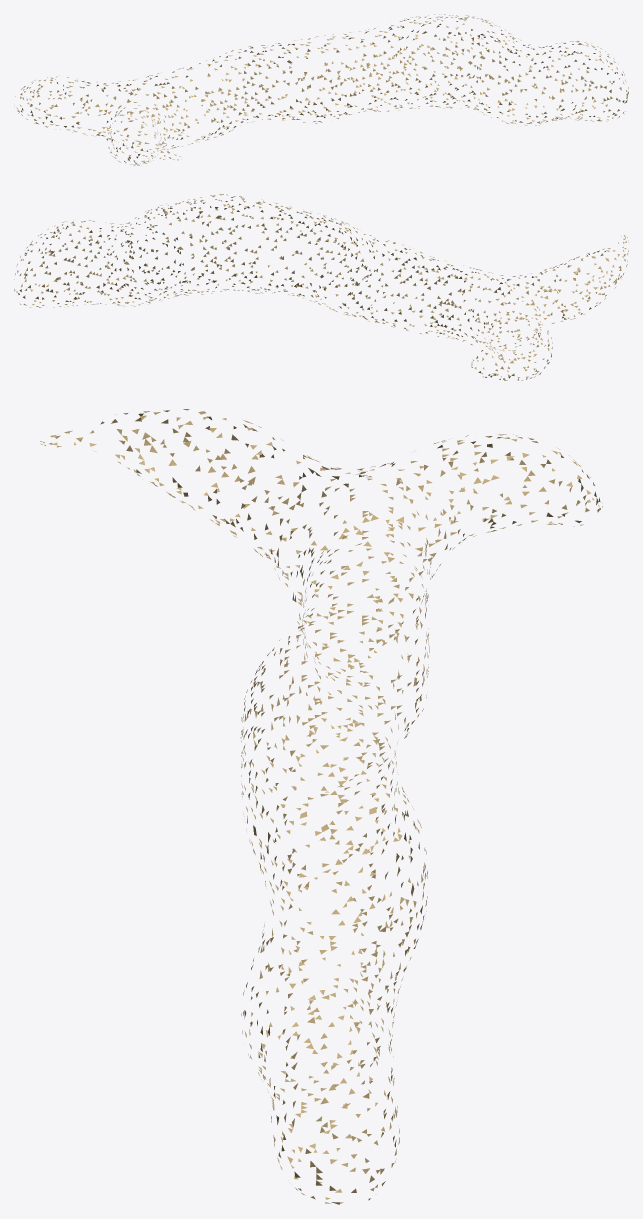
The model's file is morph_007.glb.
3 renders of one model, top to bottom at view 1: azimuth 30°, elevation 25°; view 2: azimuth 150°, elevation 25°; view 3: azimuth 270°, elevation 25°, orthographic. The views are drawn at different scales.
Bounding box in the file's own units: 120 × 30.31 × 52.54.
